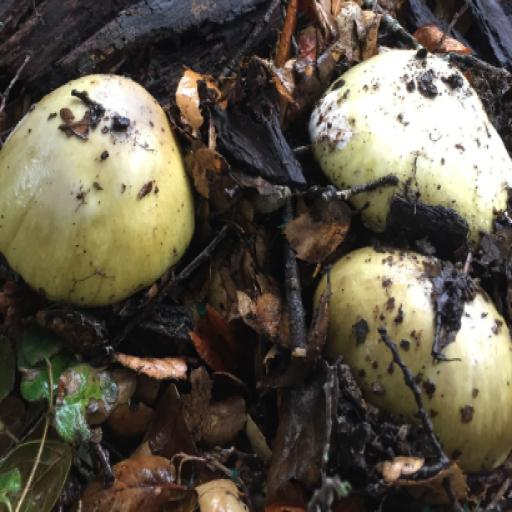Death Cap: (292, 223, 512, 475), (293, 30, 512, 265), (0, 80, 191, 297)
